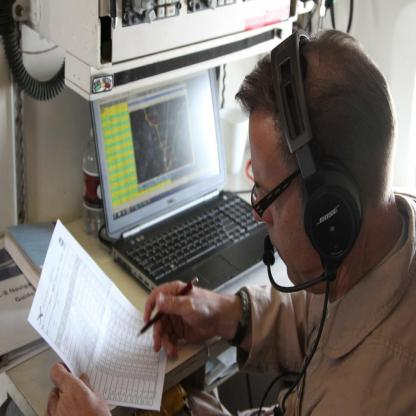board: (90, 67, 278, 295)
